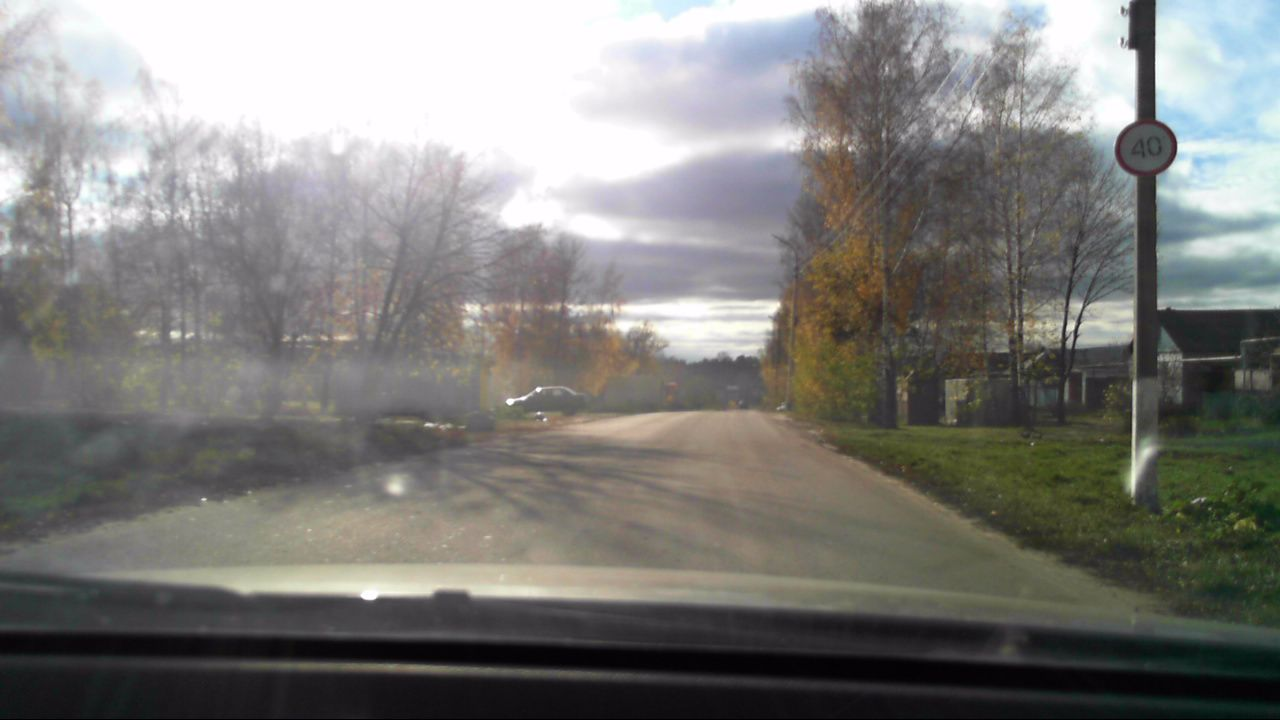speed_warning_40: (1115, 118, 1180, 178)
